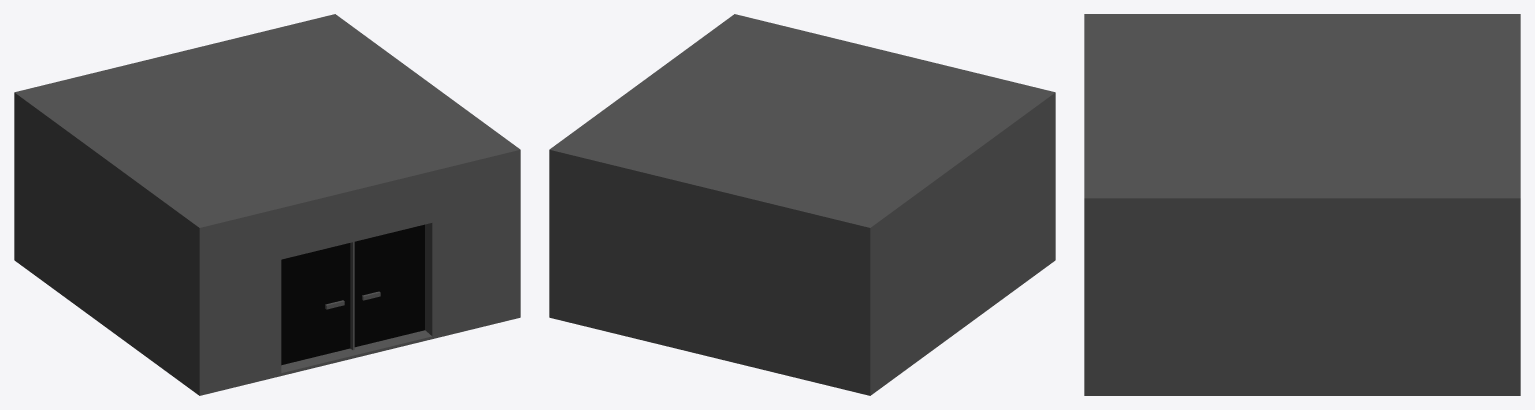
The model's file is Immeuble3Bas.fbx.
3 renders of one model, left to right at view 1: azimuth 30°, elevation 25°; view 2: azimuth 150°, elevation 25°; view 3: azimuth 270°, elevation 25°, orthographic. The views are drawn at different scales.
Visible parts, largest first — view 1: Cube.004; view 2: Cube.004; view 3: Cube.004.
Part boxes in pixels (bbox=[...]): Cube.004: bbox=[14, 14, 520, 395]; Cube.004: bbox=[549, 14, 1055, 395]; Cube.004: bbox=[1084, 14, 1520, 395].
Bounding box in the file's own units: 2000 × 1000 × 2000.
